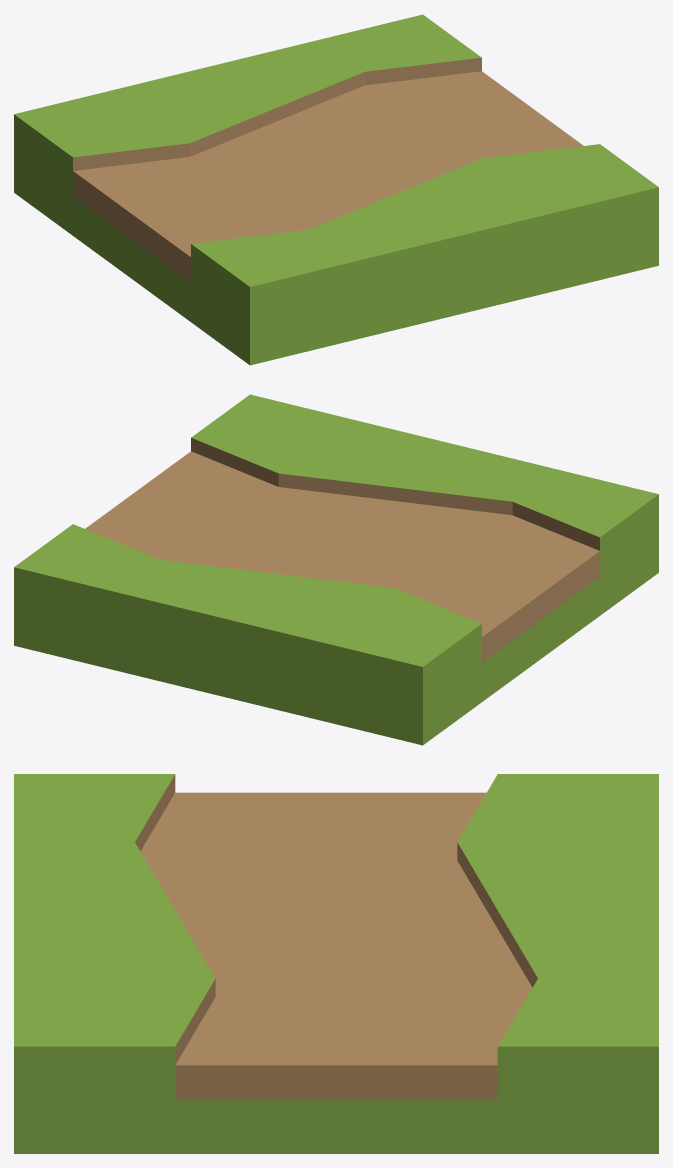
File: path-dirt-one-way-grass.obj
3 views of the same model, one above another, from view 1: azimuth 30°, elevation 25°; view 2: azimuth 150°, elevation 25°; view 3: azimuth 270°, elevation 25° (orthographic). The views are drawn at different scales.
Visible parts, largest first — view 1: Mesh1_Group1_Model.022; view 2: Mesh1_Group1_Model.022; view 3: Mesh1_Group1_Model.022.
Boxes of the visible parts, bbox=[...] form: Mesh1_Group1_Model.022: bbox=[14, 14, 658, 365]; Mesh1_Group1_Model.022: bbox=[14, 394, 658, 745]; Mesh1_Group1_Model.022: bbox=[14, 774, 658, 1153].
Size of the model in its own units: 3 by 0.55 by 3.
